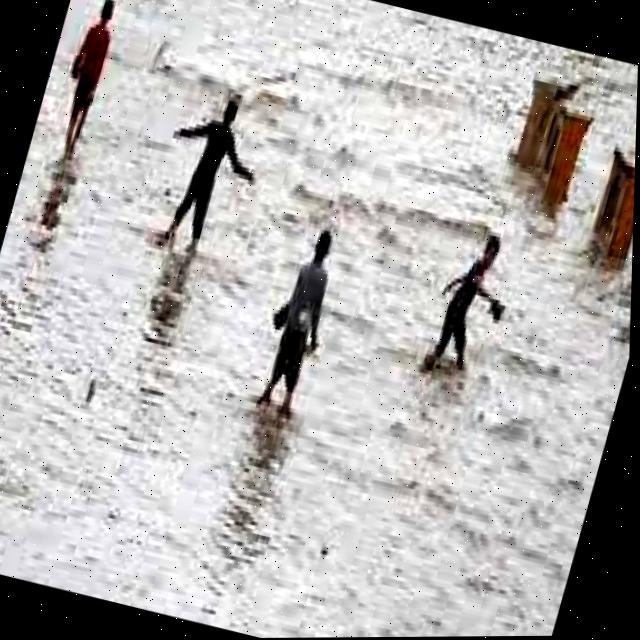civilian: (133, 69, 284, 286), (244, 208, 360, 431), (406, 215, 533, 406), (36, 0, 132, 175)
